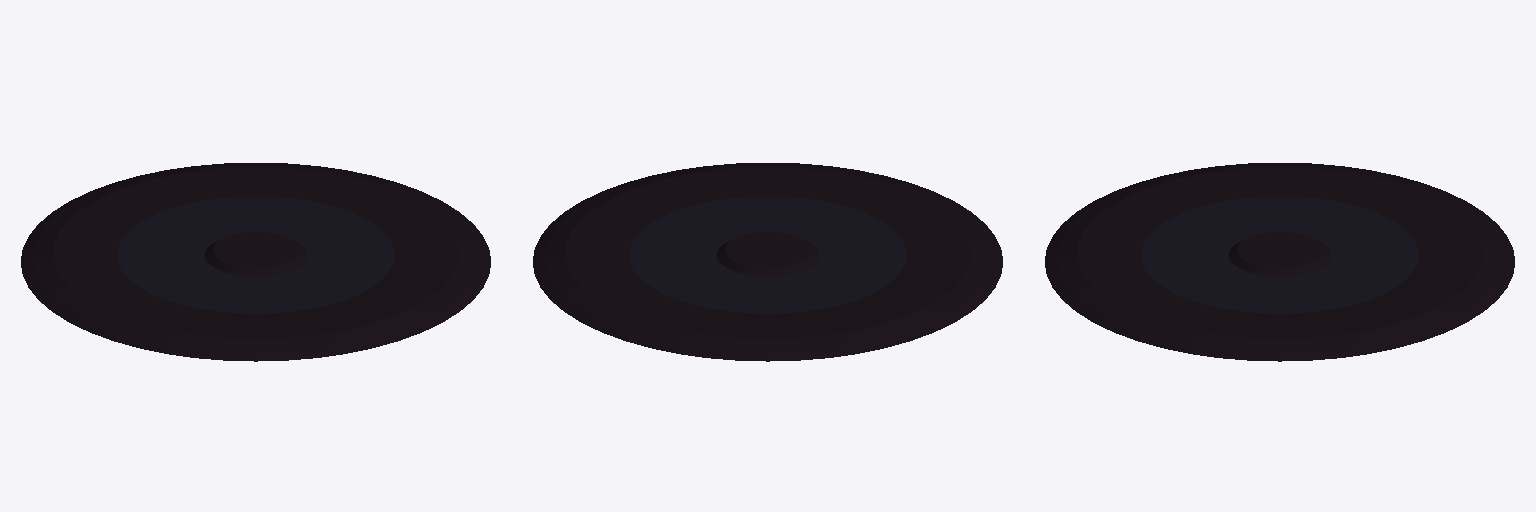
The model's file is platformRound.obj.
The picture shows the model from 3 angles: view 1: azimuth 30°, elevation 25°; view 2: azimuth 150°, elevation 25°; view 3: azimuth 270°, elevation 25°; orthographic projection.
Parts seen in each view (by area): view 1: platformRound_0; view 2: platformRound_0; view 3: platformRound_0.
Boxes of the visible parts, box(x1,y1,x2,y2) form: platformRound_0: box(21, 163, 490, 361); platformRound_0: box(533, 163, 1002, 361); platformRound_0: box(1045, 163, 1514, 361).
Bounding box in the file's own units: 23.87 × 0.6782 × 23.87.